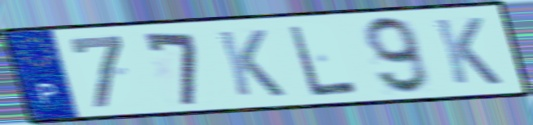7: (140, 30, 200, 107), (66, 34, 126, 110)
9: (362, 15, 433, 97)
K: (430, 16, 506, 87), (214, 28, 290, 99)
L: (285, 22, 361, 99)
